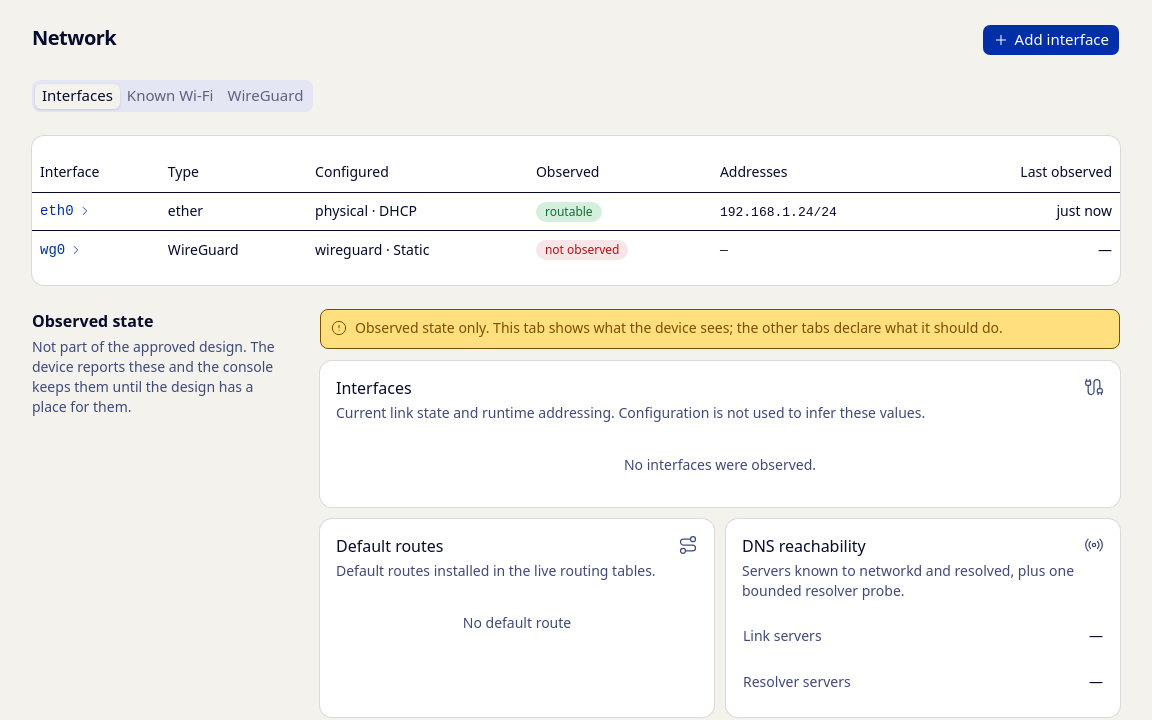
Test: the network page › reports the Wi-Fi client switch, which used to change nothing visible
The width and height of the screenshot is (1152, 720).
Click the tab "Known Wi-Fi". click: (170,96)
box: [120,84,220,108]
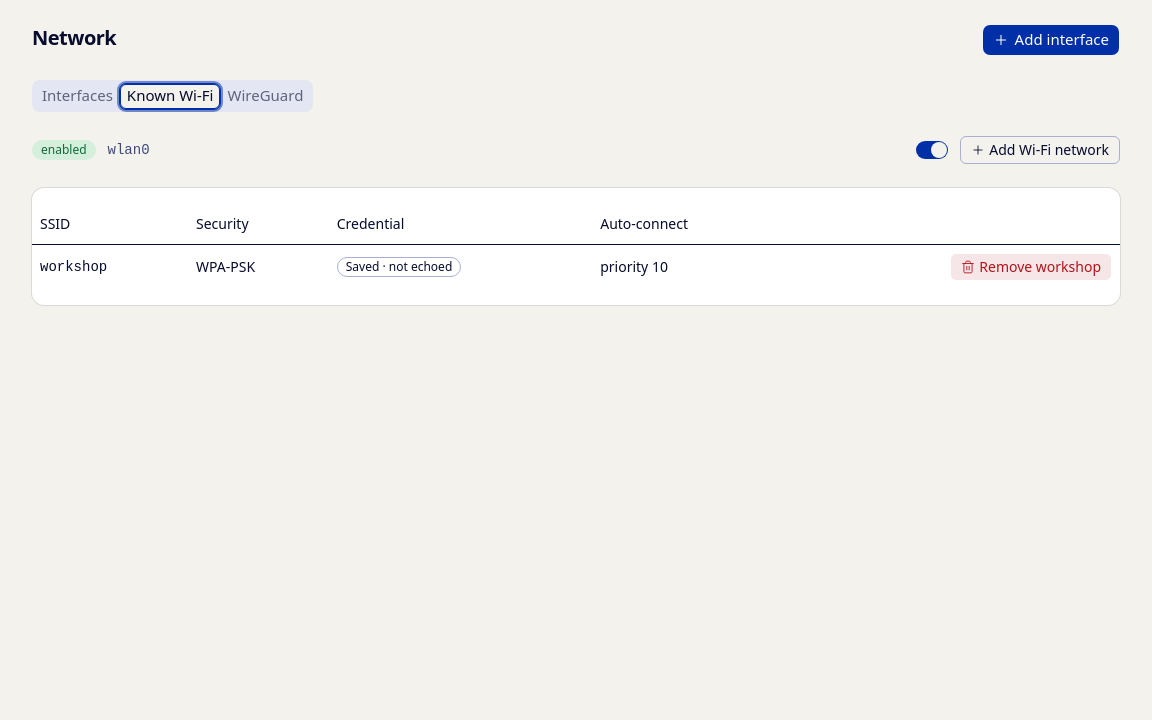
Click the switch named "Wi-Fi client". click: (932,150)
box: [916,141,948,159]
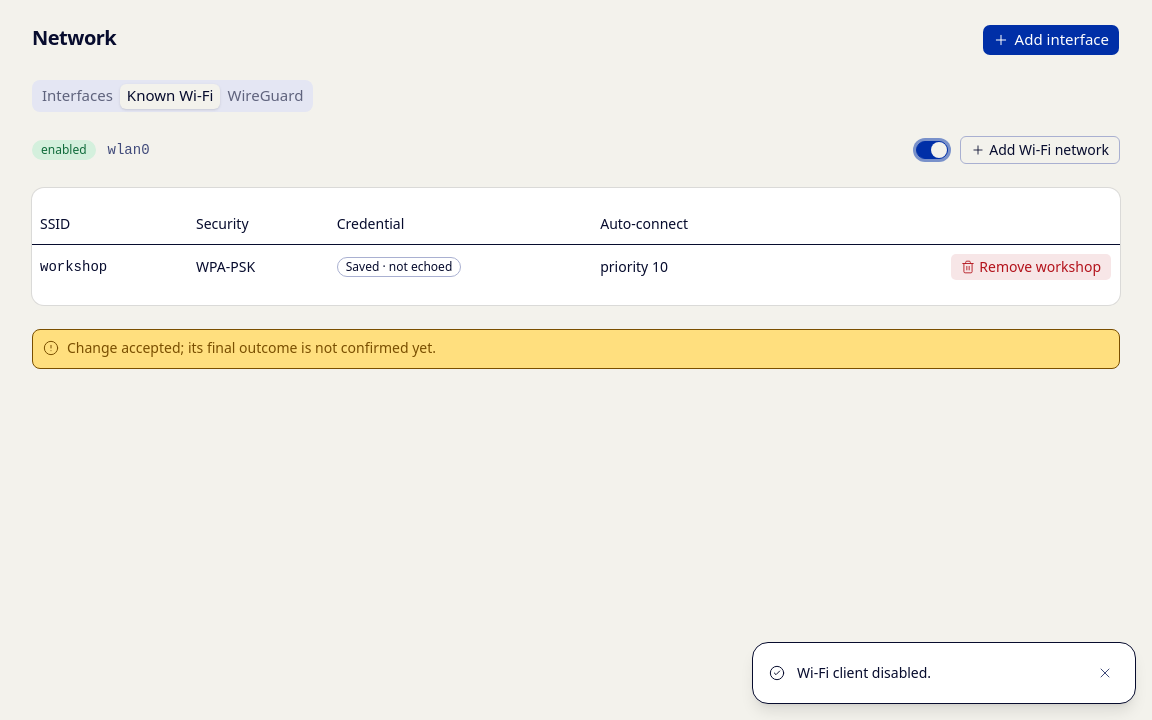
Expected: the heading "Wi-Fi client disabled." is shown, [797,663,931,682]
